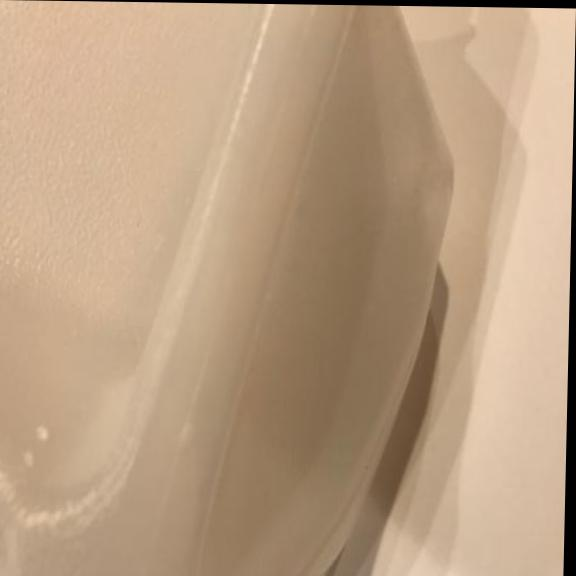Plastik: (0, 0, 461, 576)
